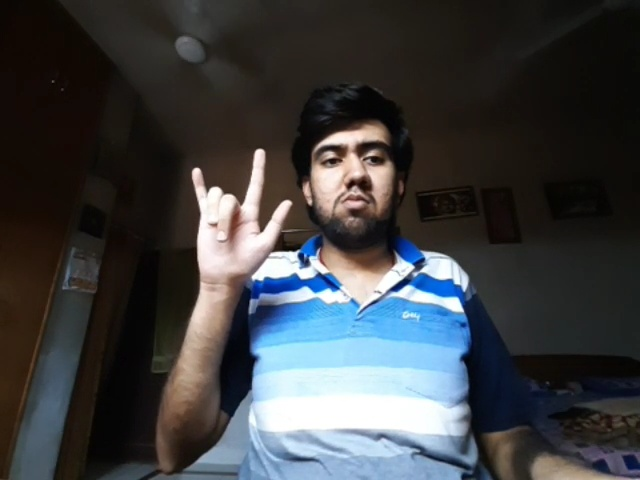ILoveYou: (192, 148, 292, 282)
